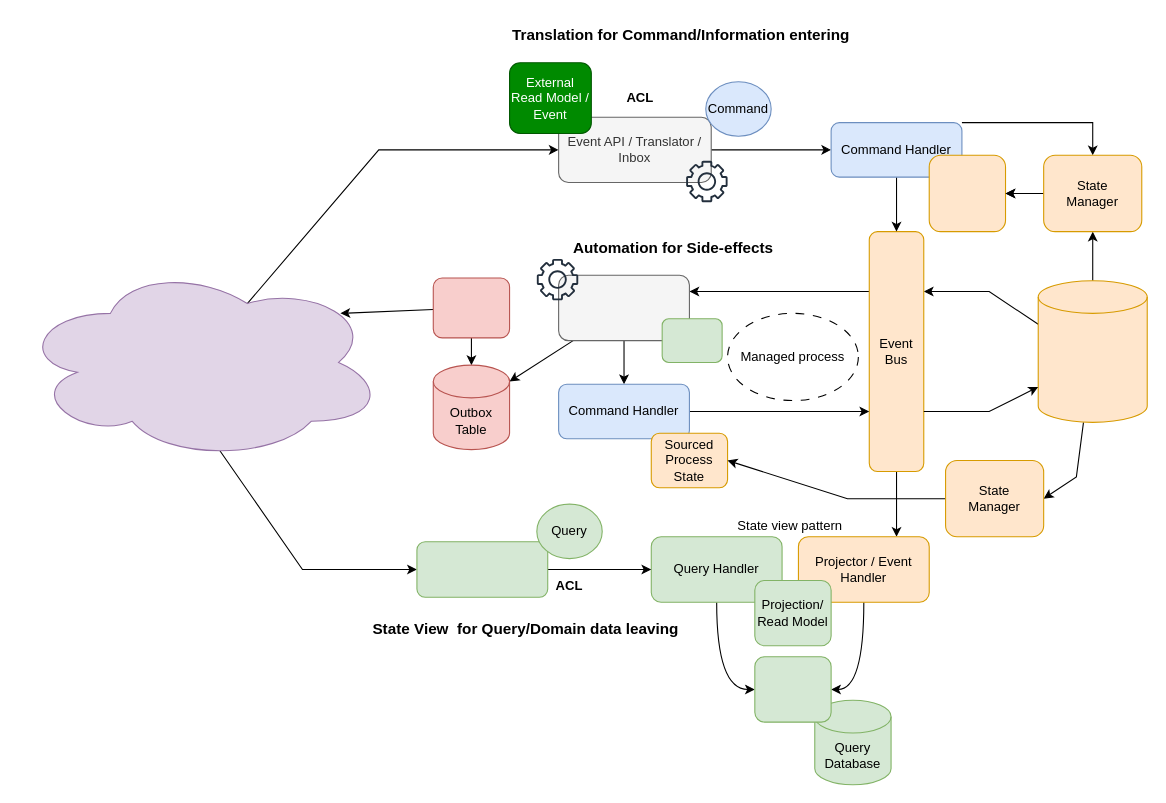
This 1166x803 diagram has some shape labels left out. Here are the shapes that lost their labels. From the top down, the centre of each, then its label:
[967,193]: Sourced Domain State
[471,307]: Outbox Manager
[623,307]: Event Handler
[691,340]: Read model
[1092,351]: Event Store
[201,362]: External systems
[482,569]: Query API
[792,689]: Query Repo
